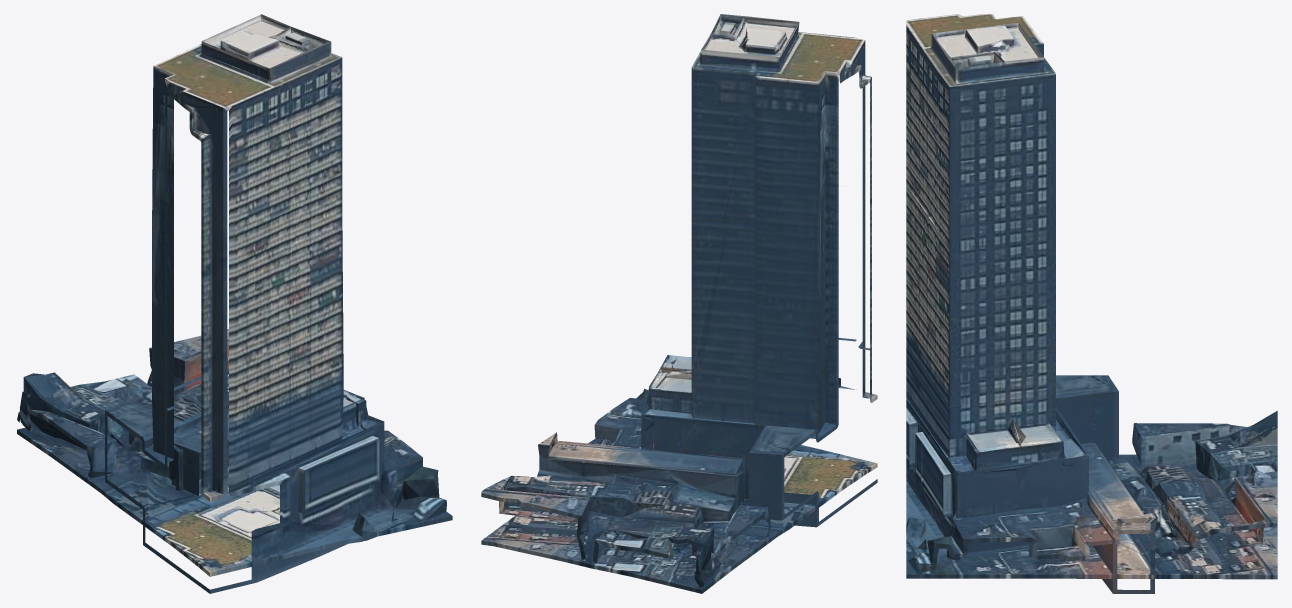
The model's file is chunk_-4_-3.glb.
3 views of the same model, side by side, from view 1: azimuth 30°, elevation 25°; view 2: azimuth 150°, elevation 25°; view 3: azimuth 270°, elevation 25° (orthographic). The views are drawn at different scales.
Visible parts, largest first — view 1: hero-chunk; view 2: hero-chunk; view 3: hero-chunk.
Part boxes in pixels (bbox=[...]): hero-chunk: bbox=[17, 14, 452, 593]; hero-chunk: bbox=[481, 14, 877, 593]; hero-chunk: bbox=[906, 14, 1277, 593].
Size of the model in its own units: 56.04 by 110 by 76.32.
Materials: 3 (3 with a texture image).
